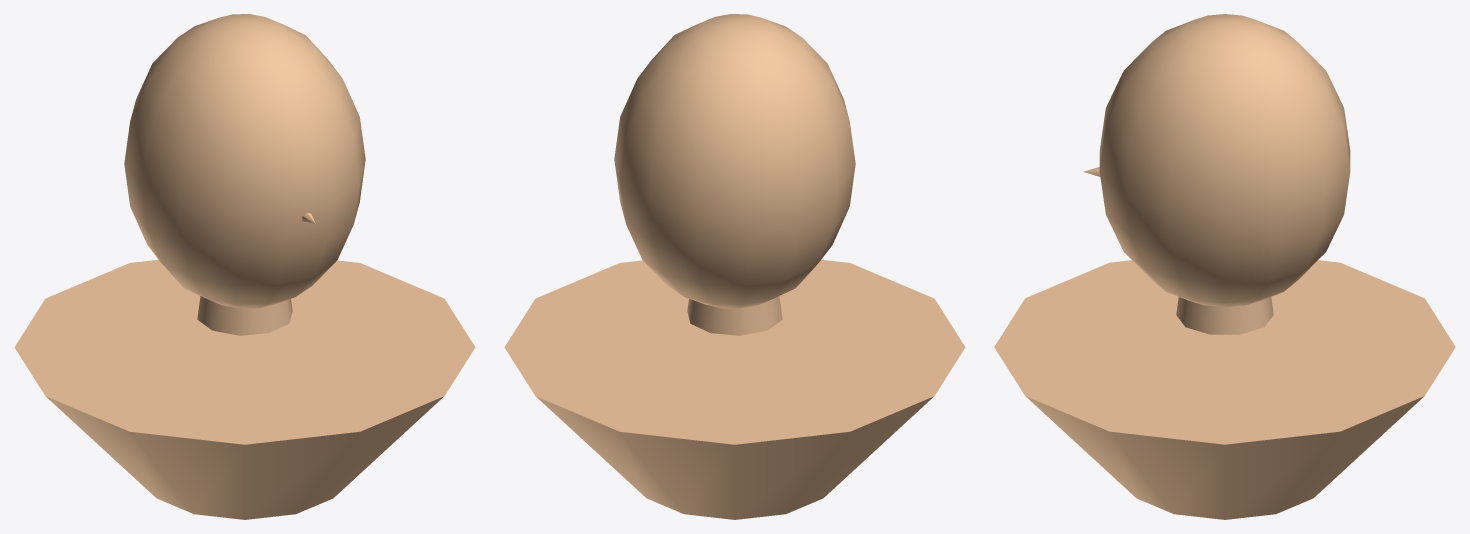
File: raw_001.glb
3 views of the same model, side by side, from view 1: azimuth 30°, elevation 25°; view 2: azimuth 150°, elevation 25°; view 3: azimuth 270°, elevation 25° (orthographic).
Bounding box in the file's own units: 1.99 × 2.16 × 1.99.
